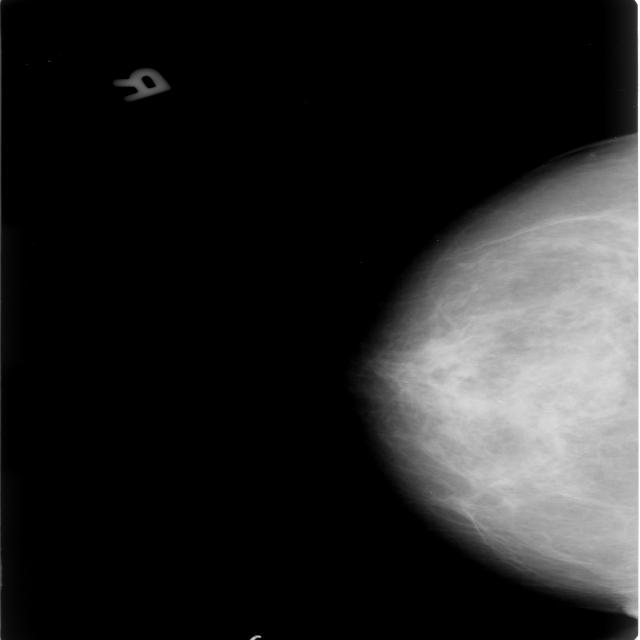normal: (325, 127, 640, 604)
